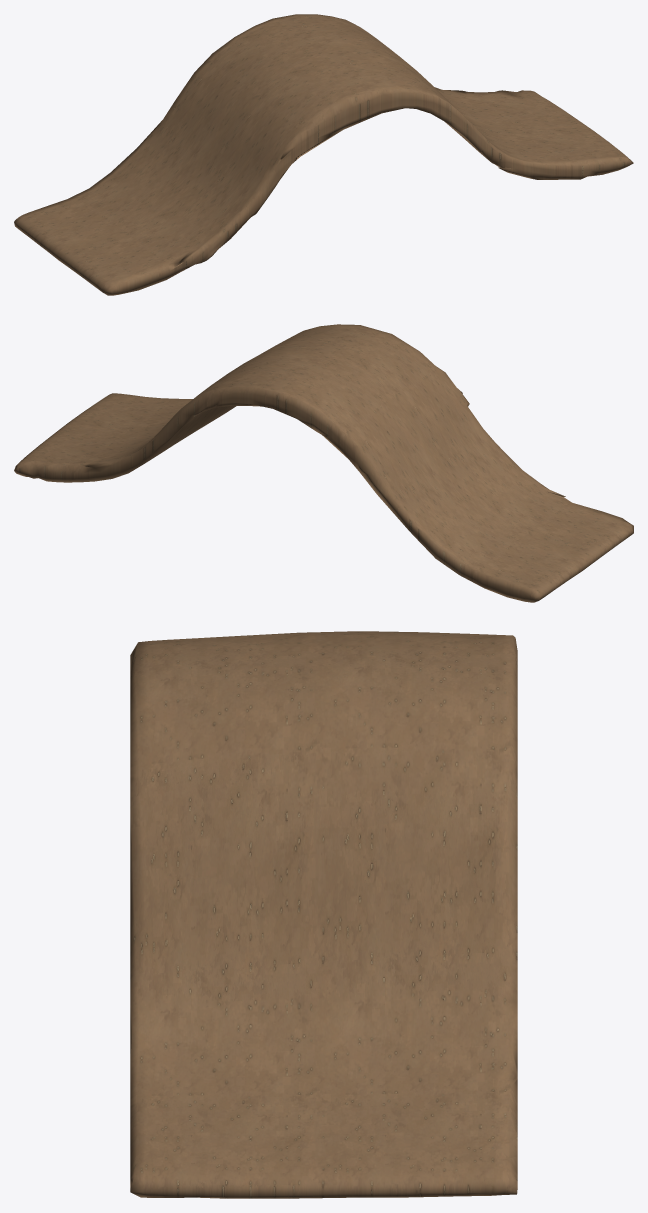
Rendered from Rampa1.FBX.
The picture shows the model from 3 angles, top to bottom: view 1: azimuth 30°, elevation 25°; view 2: azimuth 150°, elevation 25°; view 3: azimuth 270°, elevation 25°; orthographic projection. The views are drawn at different scales.
Visible parts, largest first — view 1: Rampa_1_Test; view 2: Rampa_1_Test; view 3: Rampa_1_Test.
Part boxes in pixels (x1=…): Rampa_1_Test: x1=14, y1=14, x2=633, y2=295; Rampa_1_Test: x1=14, y1=324, x2=633, y2=602; Rampa_1_Test: x1=130, y1=631, x2=517, y2=1198.
Bounding box in the file's own units: 14.57 × 3.95 × 4.63.
Materials: 1 (1 with a texture image).
